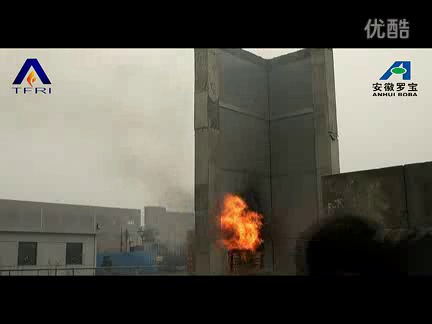fire: (216, 186, 267, 255)
